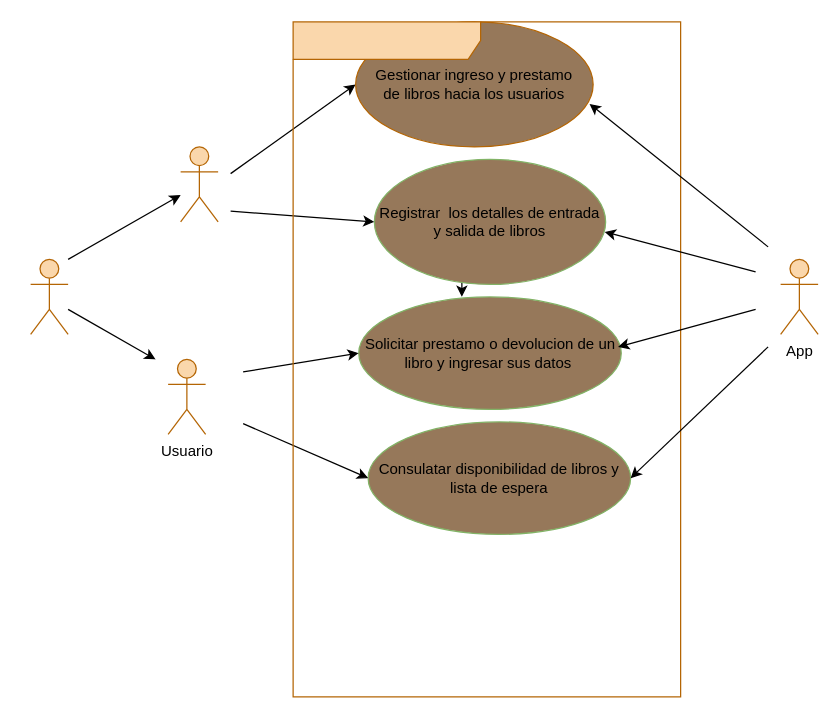
Image size: 840x719. Some labels were removed from this diagram. The centre of each missing label's shape, as x and y in pixels:
Administrador: (x=198, y=184)
DCU_SistemaBiblioteca: (x=486, y=359)
Persona: (x=48, y=296)
